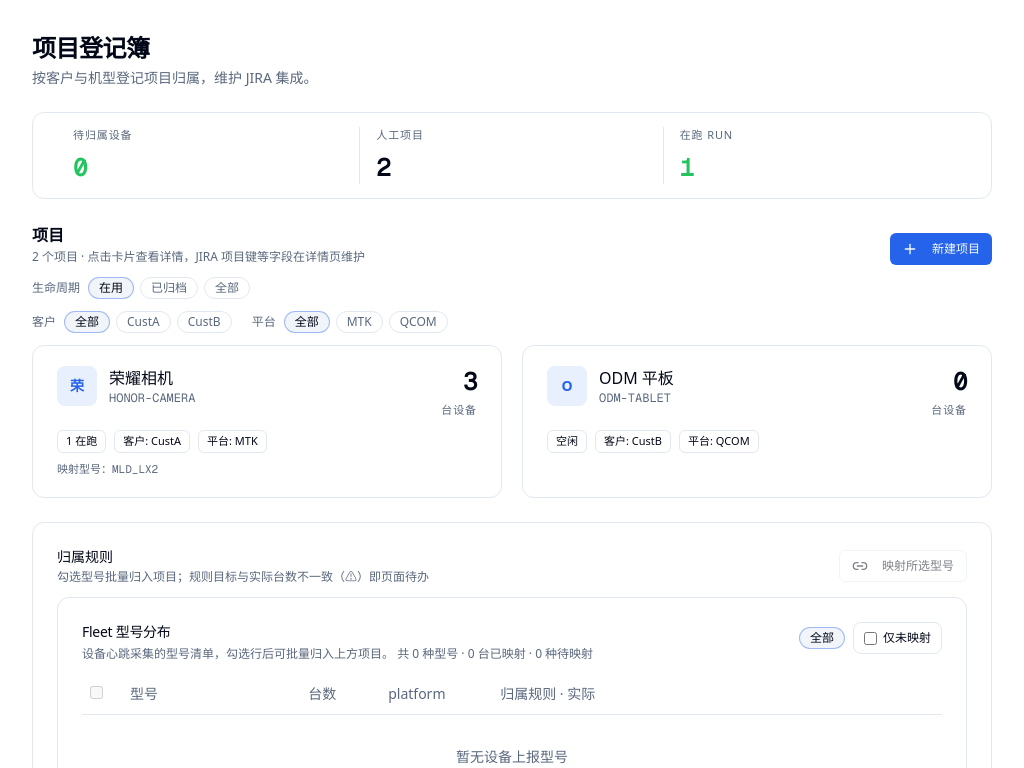
Test case: ProjectsPage › shows no-match state when facet filters out everything
This screenshot has width=1024, height=768.
Expected: the heading "荣耀相机" is shown, [109,366,173,388]
Click the button with test id "facet-customer-CustA": click(143, 322) [116,310,171,332]
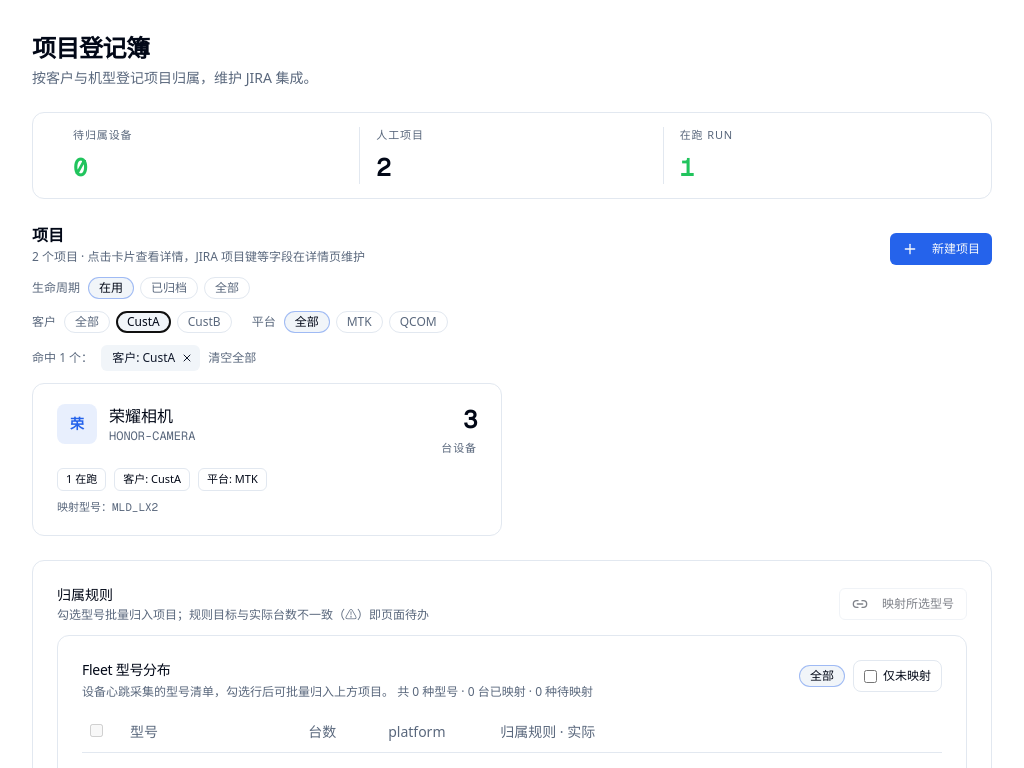
Click the button with test id "facet-platforms-QCOM": click(418, 322) [389,310,448,332]
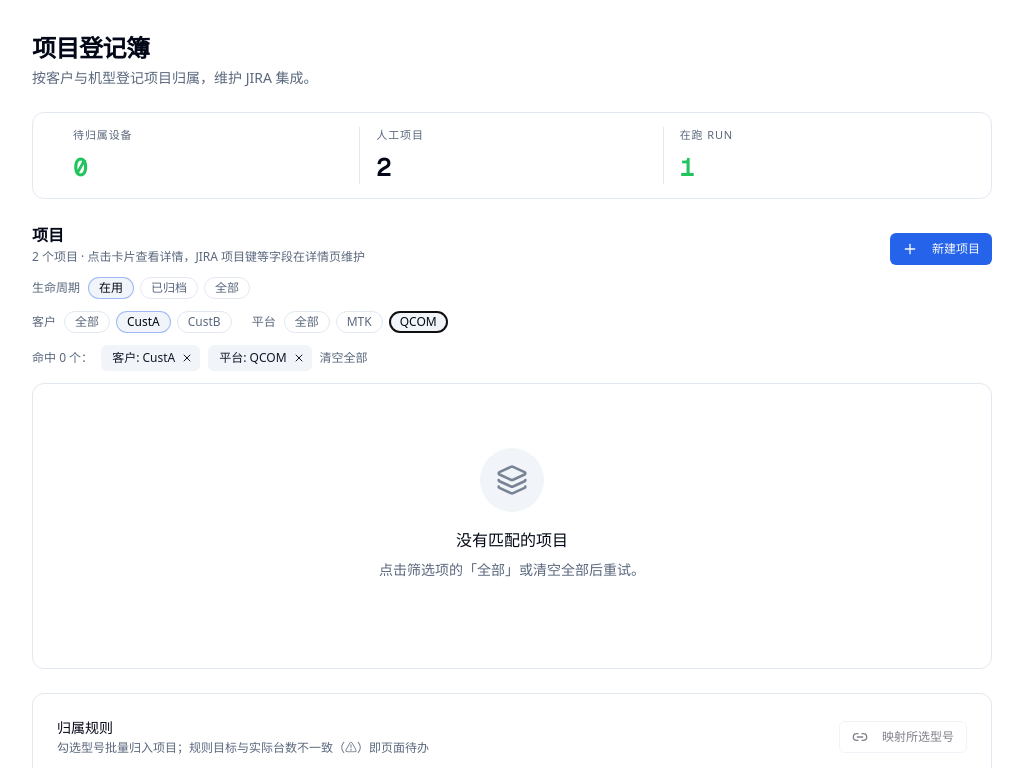
Expected: the text "没有匹配的项目" is shown, [456,528,568,550]
